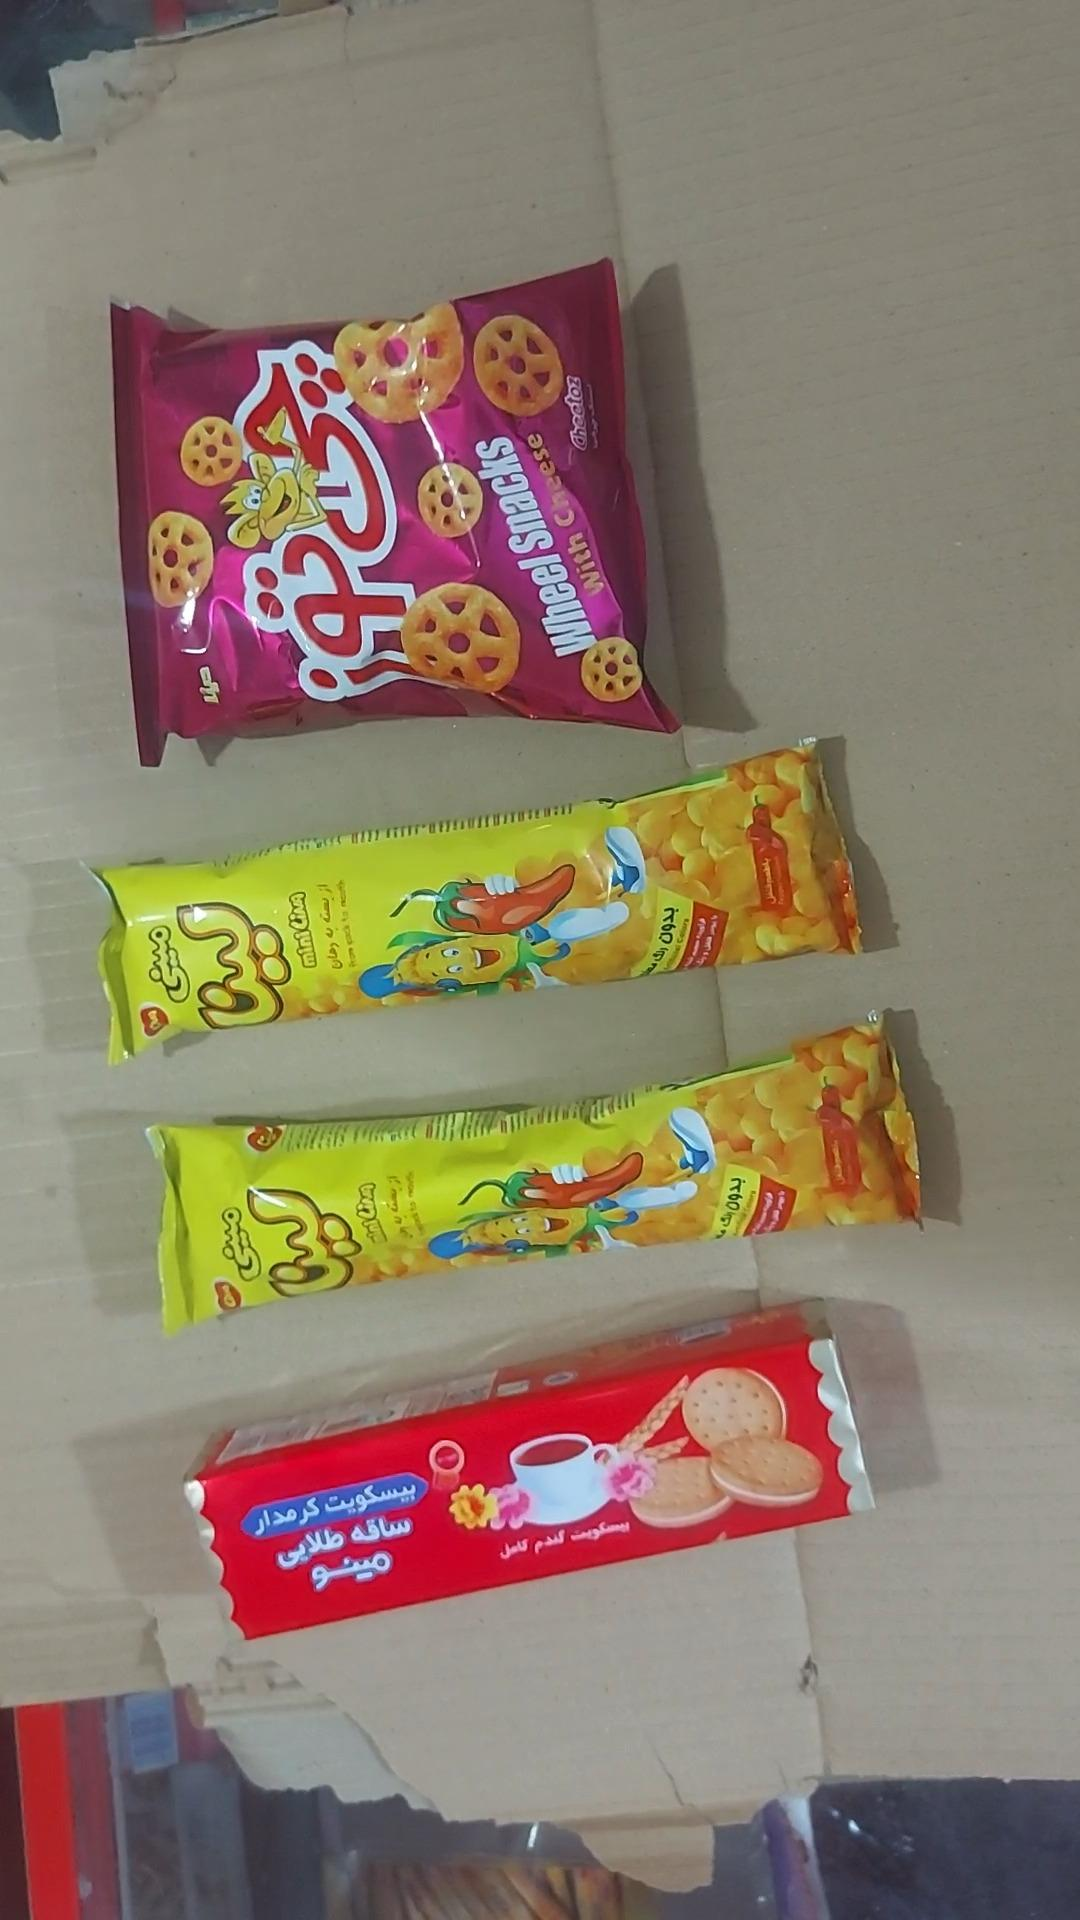Cheetoz wheelsnack: (112, 262, 678, 764)
Mini Lina: (95, 744, 861, 1062), (149, 1023, 920, 1332)
Minoo cream biscuit: (187, 1305, 876, 1640)
